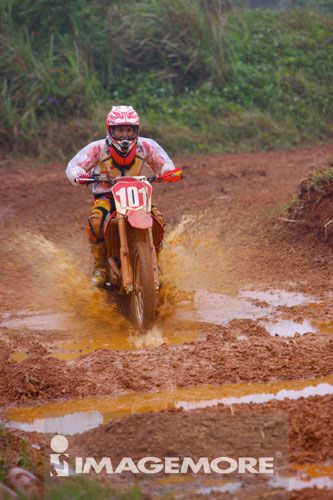helmet: (102, 106, 145, 153)
